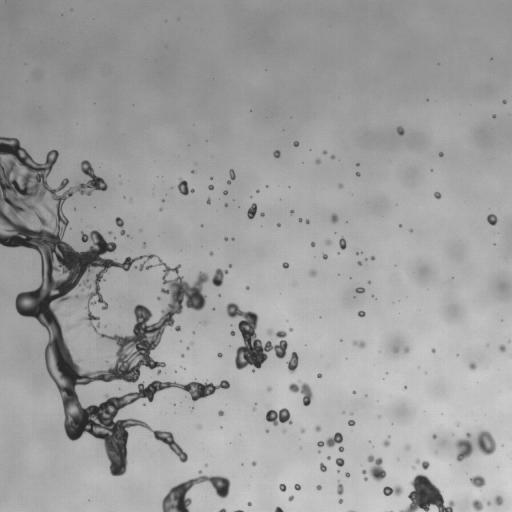droplet: (226, 302, 287, 370), (399, 474, 455, 511), (362, 455, 386, 481), (289, 381, 313, 406), (455, 433, 473, 461), (477, 430, 496, 455), (265, 408, 291, 425), (177, 178, 194, 195), (212, 268, 227, 286), (287, 352, 298, 373), (470, 475, 485, 487), (247, 203, 256, 219), (472, 499, 483, 511), (416, 459, 429, 469), (487, 214, 497, 225), (339, 237, 346, 249), (353, 341, 365, 348), (494, 496, 503, 505), (396, 126, 404, 135), (335, 458, 344, 466), (337, 482, 343, 494), (382, 437, 389, 447), (331, 214, 338, 223), (273, 150, 280, 158), (357, 310, 365, 317), (279, 483, 286, 491), (355, 287, 364, 293), (434, 192, 441, 199), (469, 362, 476, 369), (348, 419, 355, 426), (320, 463, 326, 471), (309, 270, 316, 276), (499, 344, 505, 351), (294, 484, 301, 490), (282, 262, 288, 268), (338, 446, 344, 452), (293, 141, 299, 146), (208, 184, 213, 190), (322, 253, 327, 259), (315, 426, 321, 431), (288, 495, 293, 501), (315, 159, 320, 164), (175, 326, 180, 331), (230, 330, 235, 335), (217, 352, 222, 357), (317, 373, 322, 378), (218, 410, 223, 415), (316, 485, 321, 490), (206, 199, 210, 204), (325, 240, 330, 244), (404, 347, 408, 352), (338, 498, 342, 503), (323, 150, 327, 154), (439, 152, 443, 156), (338, 184, 342, 188), (223, 190, 227, 194), (260, 212, 264, 216), (311, 242, 315, 246), (370, 256, 374, 260), (357, 261, 361, 265), (267, 387, 271, 391), (300, 428, 304, 432), (432, 434, 436, 438), (405, 445, 409, 449), (345, 472, 349, 476), (486, 501, 490, 505), (356, 172, 359, 176), (306, 219, 309, 223), (209, 252, 213, 255), (157, 296, 160, 300), (393, 349, 397, 352), (252, 461, 255, 465), (503, 100, 506, 103), (331, 155, 334, 158), (290, 210, 293, 213), (277, 223, 280, 226), (246, 286, 249, 289), (432, 349, 435, 352), (327, 456, 330, 459), (364, 477, 367, 480), (248, 502, 251, 505), (492, 115, 495, 117), (356, 163, 358, 166), (191, 170, 193, 173), (224, 204, 227, 206), (159, 208, 162, 210), (299, 219, 302, 221), (399, 224, 401, 227), (109, 231, 111, 234), (224, 238, 227, 240), (143, 243, 145, 246), (290, 328, 292, 331), (352, 391, 355, 393), (253, 407, 255, 410), (456, 423, 459, 425), (198, 425, 200, 428), (266, 429, 268, 432), (257, 190, 259, 192), (162, 199, 164, 201), (357, 252, 359, 254), (134, 266, 136, 268), (368, 281, 370, 283), (190, 343, 192, 345), (181, 354, 183, 356), (318, 450, 320, 452), (412, 466, 414, 468)
ligament: (0, 137, 226, 476), (162, 470, 230, 511), (317, 432, 342, 448), (383, 485, 403, 496), (115, 217, 125, 235), (227, 169, 235, 183), (274, 507, 283, 511), (219, 508, 226, 511), (234, 510, 243, 511), (348, 510, 355, 511), (389, 510, 392, 511)
